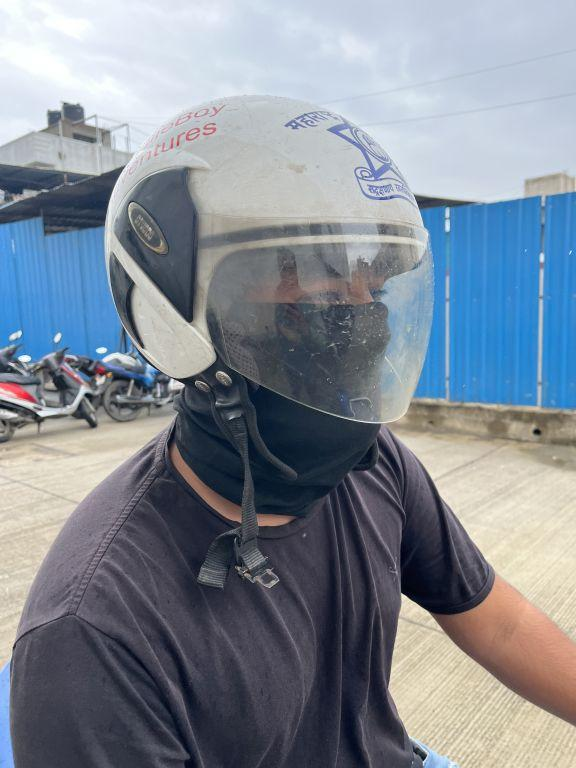helmet: (100, 94, 444, 455)
